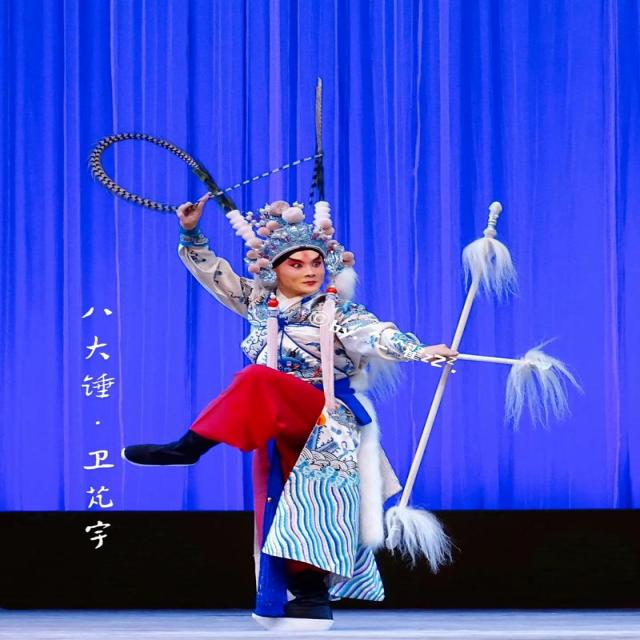Reeves-s Pheasant: (89, 133, 236, 212)
